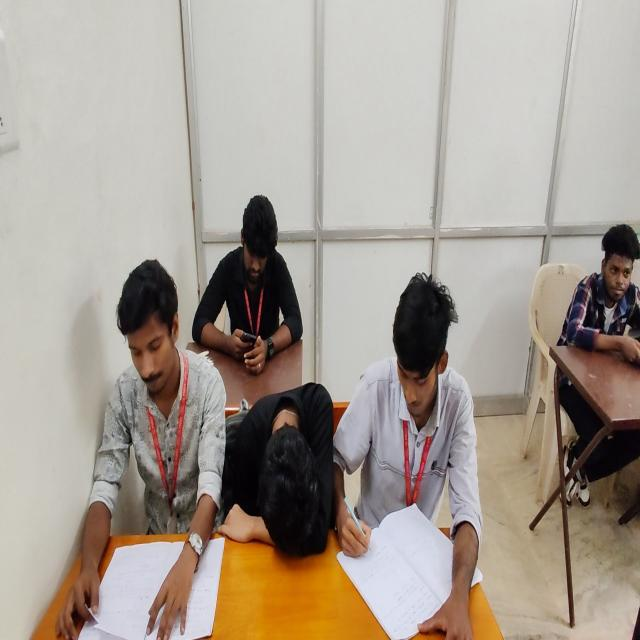listening: (553, 220, 640, 509)
reading: (56, 260, 229, 640)
sleeping: (217, 378, 334, 562)
using_mobile: (191, 194, 303, 368)
writing: (348, 267, 484, 640)
